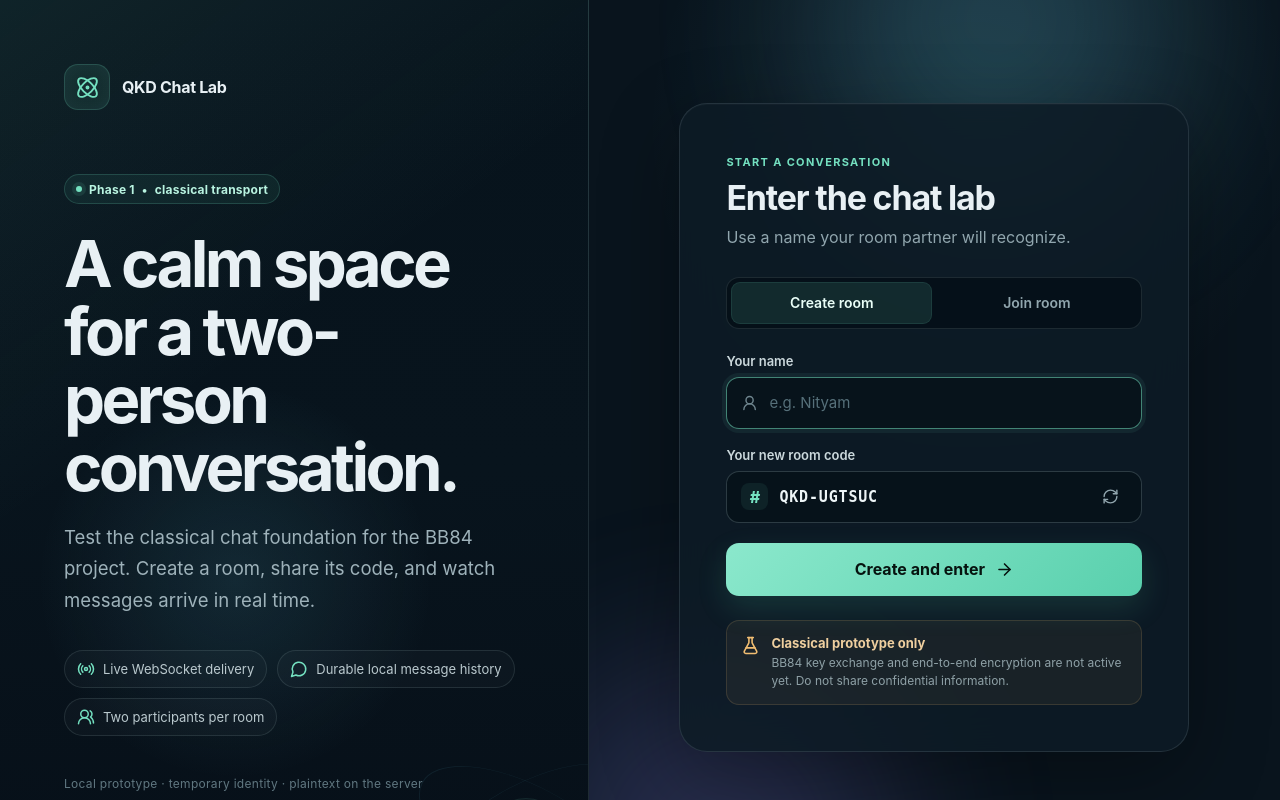
it: Phase-1 chat experience › shows friendly, accessible onboarding validation
Click the button "Create and enter".
click(934, 569)  # box x1=726 y1=543 x2=1142 y2=596
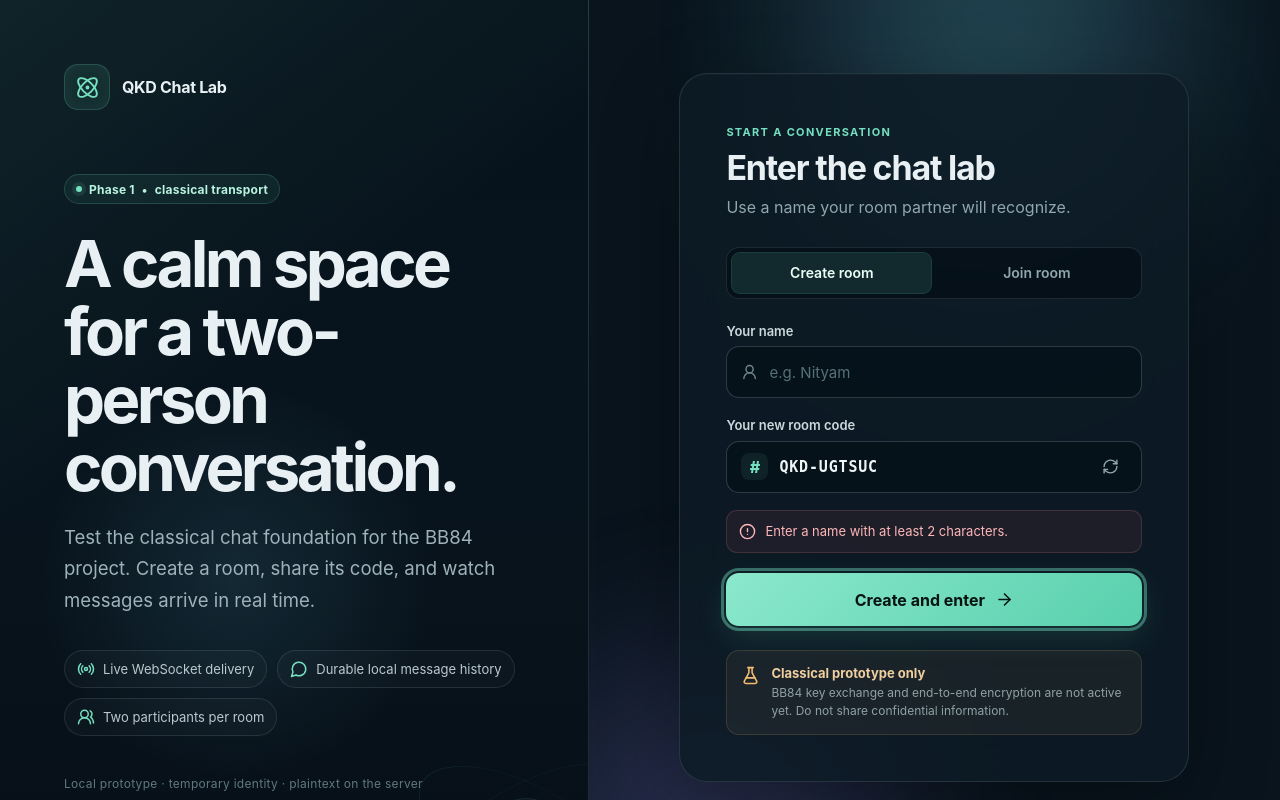
Expected: the message shows "at least 2 characters", x1=765 y1=523 x2=1008 y2=539
